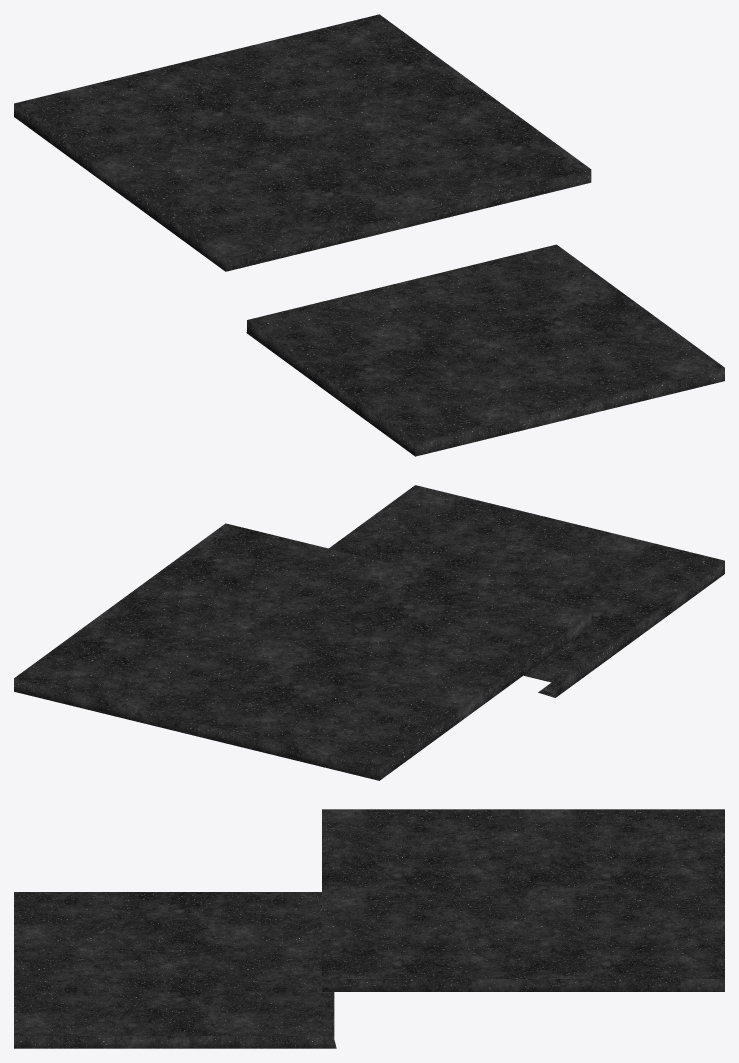
File: building_01_roof.fbx
3 views of the same model, one above another, from view 1: azimuth 30°, elevation 25°; view 2: azimuth 150°, elevation 25°; view 3: azimuth 270°, elevation 25° (orthographic). The views are drawn at different scales.
Parts seen in each view (by area): view 1: building_01_roof; view 2: building_01_roof; view 3: building_01_roof.
Boxes of the visible parts, box(x1,y1,x2,y2) form: building_01_roof: box(14, 14, 724, 456); building_01_roof: box(14, 485, 724, 780); building_01_roof: box(14, 809, 724, 1048).
Bounding box in the file's own units: 318 × 71.99 × 562.
1 material, 1 textured.
